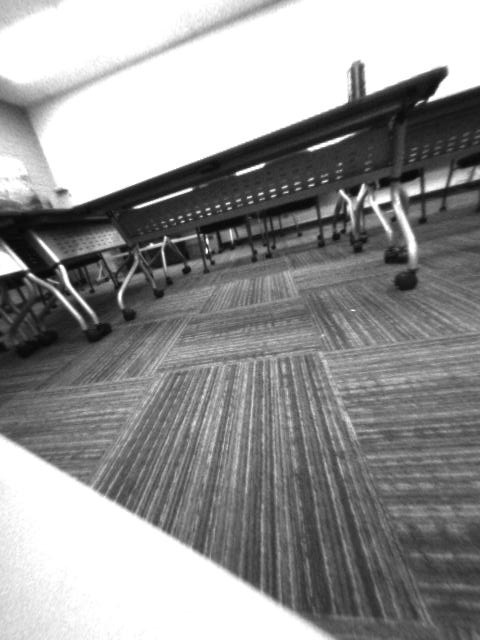can: (345, 54, 368, 104)
